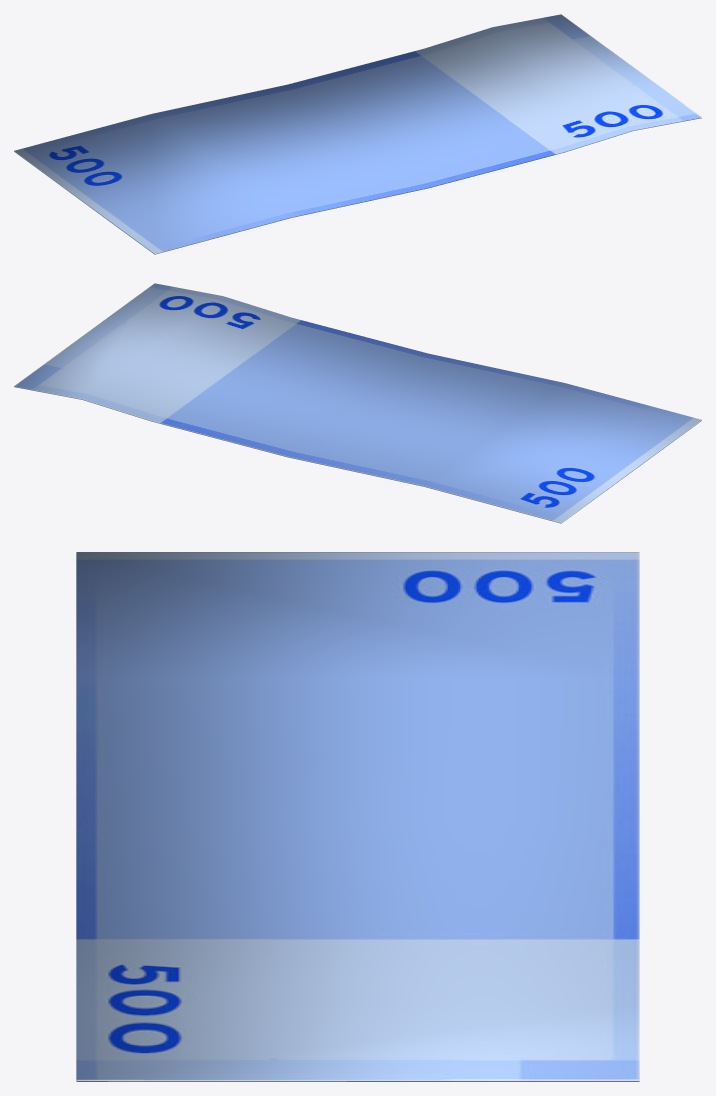
Rendered from Money_500.fbx.
3 views of the same model, one above another, from view 1: azimuth 30°, elevation 25°; view 2: azimuth 150°, elevation 25°; view 3: azimuth 270°, elevation 25° (orthographic). The views are drawn at different scales.
Parts seen in each view (by area): view 1: Money; view 2: Money; view 3: Money.
Boxes of the visible parts, x1,y1,x2,y2 form: Money: (14, 14, 701, 254); Money: (14, 283, 701, 523); Money: (76, 552, 639, 1081).
Bounding box in the file's own units: 15.69 × 0.2226 × 6.99.
